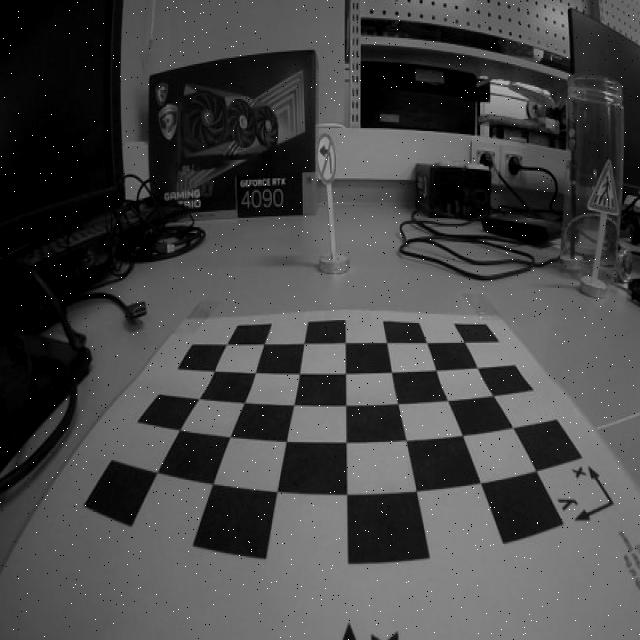Dilarang Belok Kiri: (316, 134, 337, 184)
